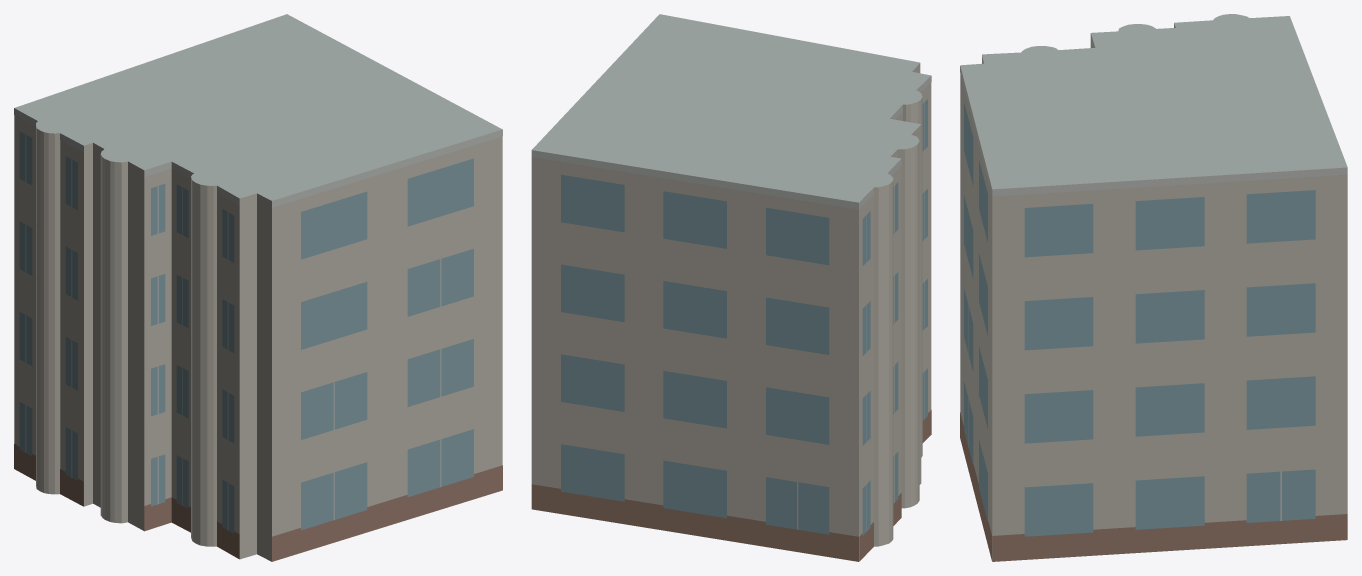
Rendered from survey-upis-32517314.glb.
The picture shows the model from 3 angles, left to right: view 1: azimuth 30°, elevation 25°; view 2: azimuth 150°, elevation 25°; view 3: azimuth 270°, elevation 25°; orthographic projection. The views are drawn at different scales.
Parts seen in each view (by area): view 1: survey-upis-32517314.tmp; view 2: survey-upis-32517314.tmp; view 3: survey-upis-32517314.tmp.
Part boxes in pixels (left/top/right/bottom): survey-upis-32517314.tmp: left=14, top=14, right=502, bottom=561; survey-upis-32517314.tmp: left=531, top=14, right=931, bottom=561; survey-upis-32517314.tmp: left=960, top=14, right=1347, bottom=561.
Size of the model in its own units: 12.93 by 12.8 by 12.08.
